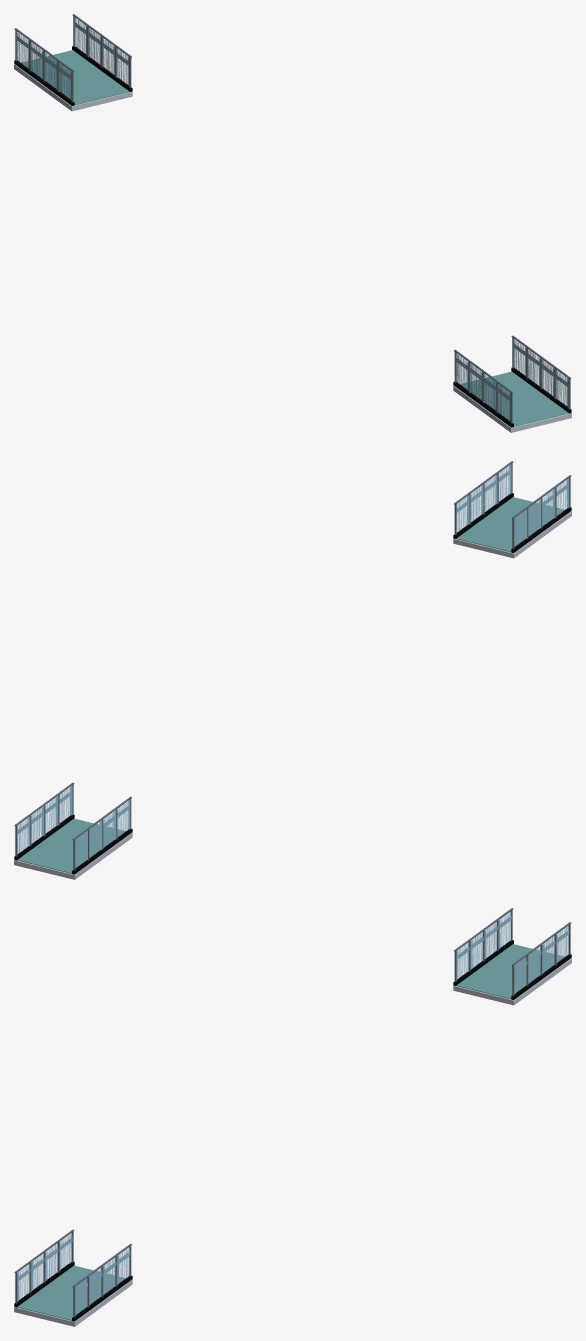
The model's file is tt_leisure_footbridges.glb.
3 views of the same model, one above another, from view 1: azimuth 30°, elevation 25°; view 2: azimuth 150°, elevation 25°; view 3: azimuth 330°, elevation 25° (orthographic).
Parts seen in each view (by area): view 1: RiverBridge_Pane_Scissor, RiverBridge_Nonslip, RiverBridge_Post, RiverBridge_Deck, RiverBridge_Kick, RiverBridge_Rail; view 2: RiverBridge_Pane_Scissor, RiverBridge_Nonslip, RiverBridge_Deck, RiverBridge_Kick, RiverBridge_Post, RiverBridge_Rail; view 3: RiverBridge_Pane_Scissor, RiverBridge_Nonslip, RiverBridge_Post, RiverBridge_Deck, RiverBridge_Kick, RiverBridge_Rail.
Boxes of the visible parts, x1,y1,x2,y2 form: RiverBridge_Pane_Scissor: (16, 18, 568, 421); RiverBridge_Nonslip: (21, 50, 568, 426); RiverBridge_Post: (15, 16, 570, 423); RiverBridge_Deck: (14, 64, 571, 432); RiverBridge_Kick: (14, 46, 571, 427); RiverBridge_Rail: (14, 14, 571, 393); RiverBridge_Pane_Scissor: (17, 464, 569, 867); RiverBridge_Nonslip: (17, 497, 564, 873); RiverBridge_Deck: (14, 511, 571, 879); RiverBridge_Kick: (14, 493, 571, 874); RiverBridge_Post: (15, 463, 570, 870); RiverBridge_Rail: (14, 461, 571, 840); RiverBridge_Pane_Scissor: (17, 912, 569, 1315); RiverBridge_Nonslip: (17, 944, 564, 1320); RiverBridge_Post: (15, 910, 570, 1317); RiverBridge_Deck: (14, 958, 571, 1326); RiverBridge_Kick: (14, 940, 571, 1321); RiverBridge_Rail: (14, 908, 571, 1287).
Size of what is drawn, in the model's own units: 2 by 1.27 by 28.3.
5 materials, 4 textured.
